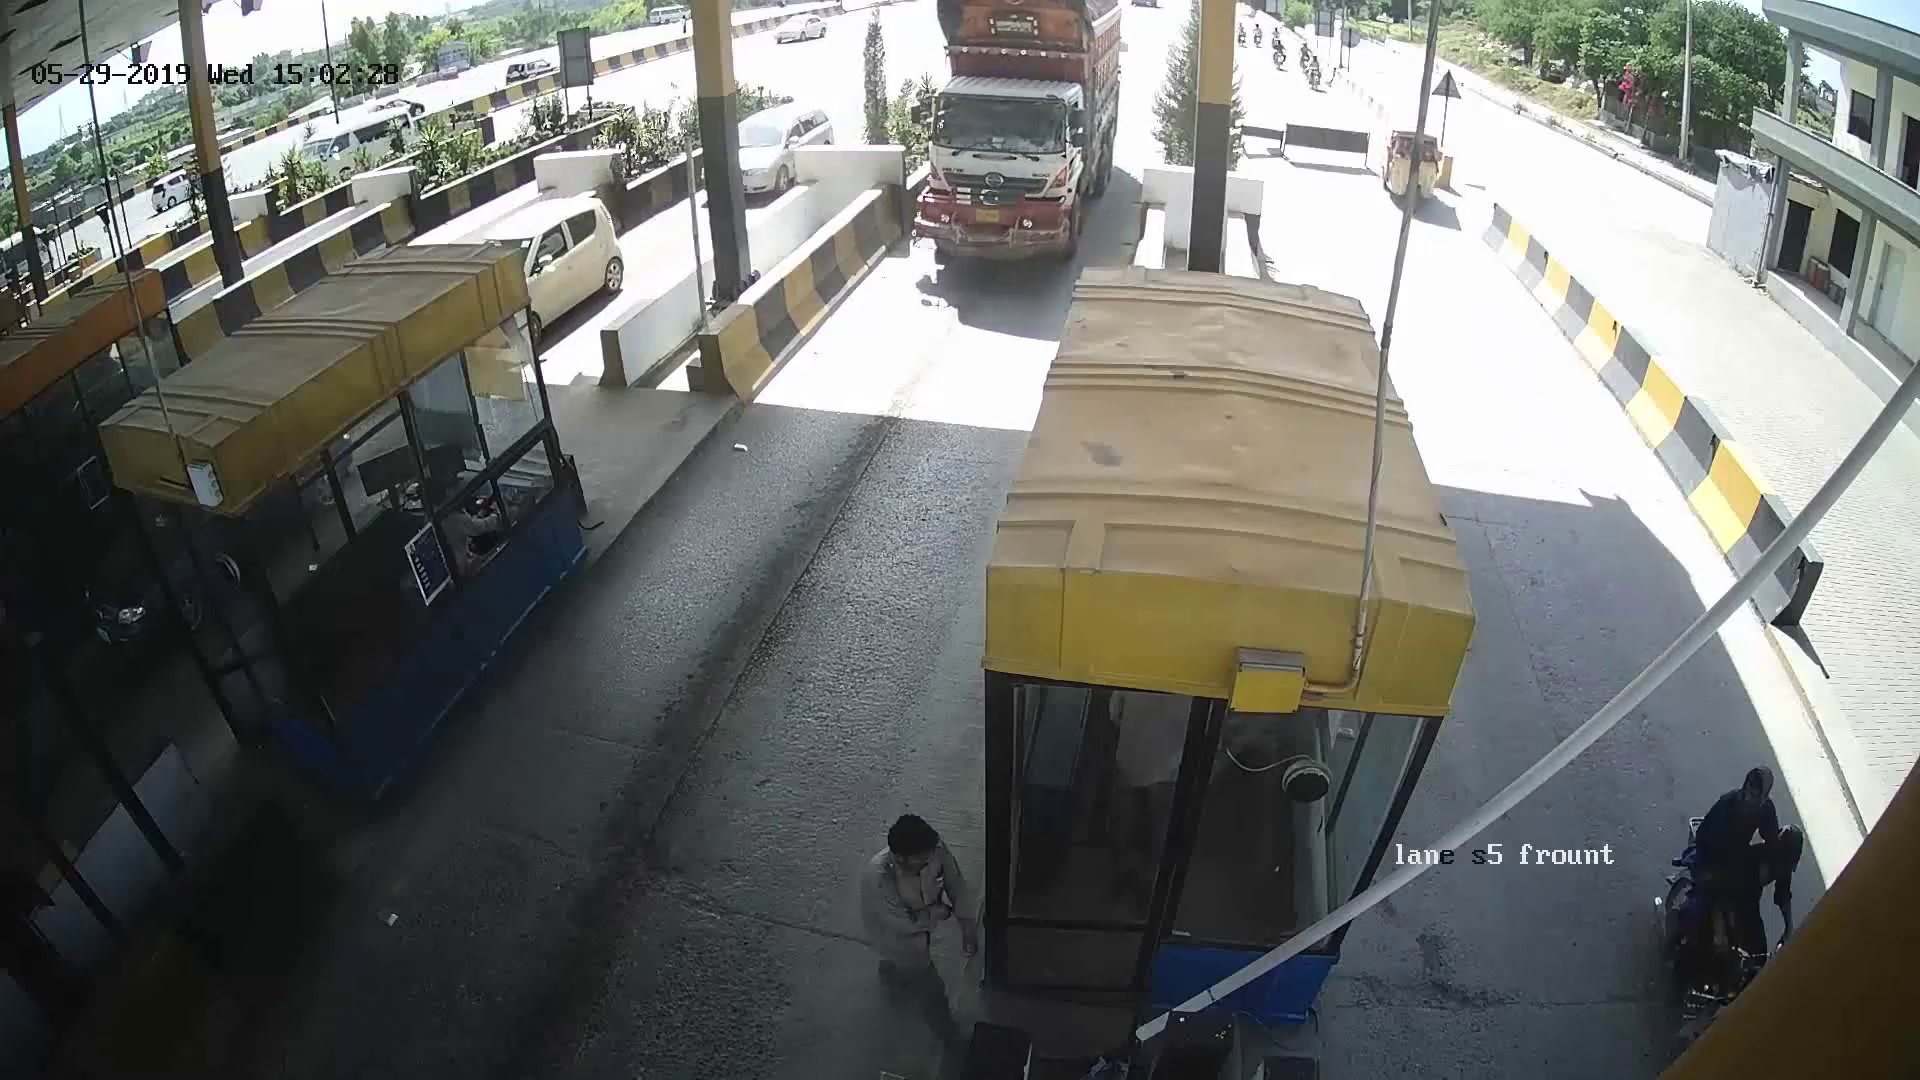truck: (919, 18, 1087, 264)
